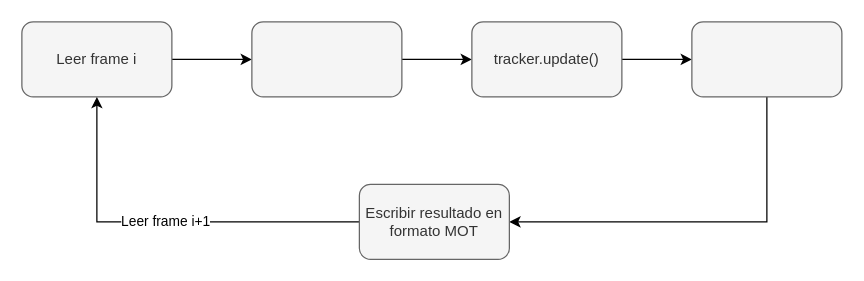
Image size: 864x281. Some labels were removed from this diagram. Here are the shapes that lost their labels. From the top down, the centre of each, then its label:
At point (326, 59): "Filtrar balón".
At point (766, 59): "Reasignar ID".
